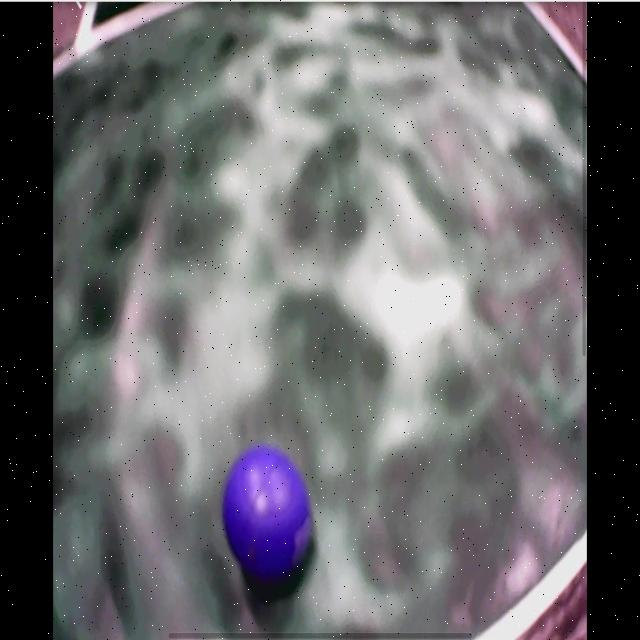ball: (224, 447, 315, 579)
